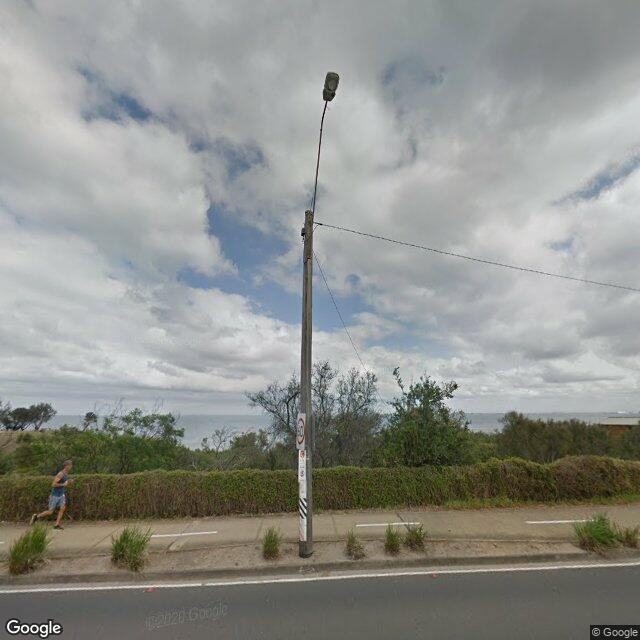streetlight: (312, 71, 340, 221)
timber-pole: (298, 210, 315, 558)
